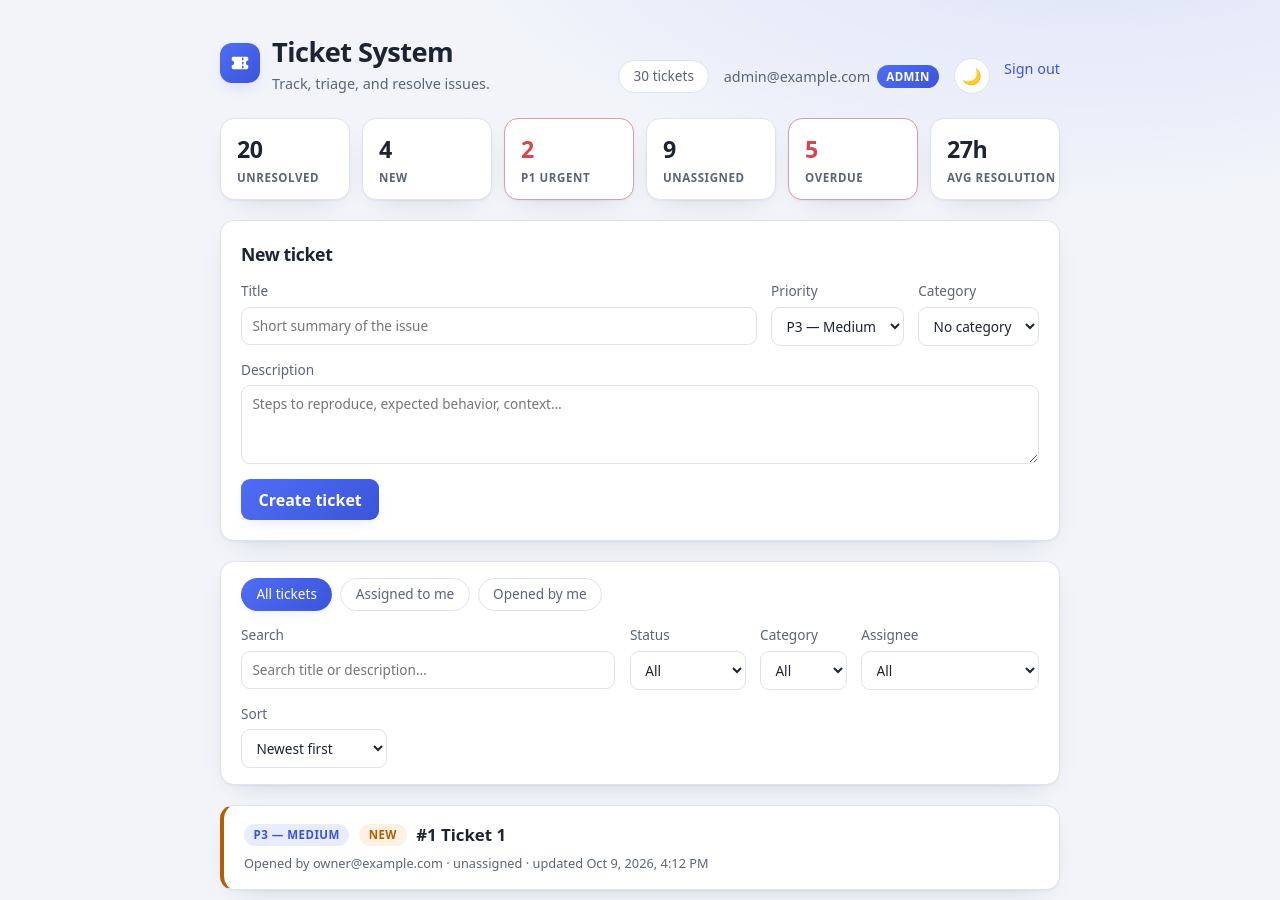
it: stats tiles › formats resolution time in hours below two days and days above
This screenshot has width=1280, height=900.
Expected: the text "27h" is shown, [947,133,987,165]
Select "Open" in the dropdown labelled "Status" at point(688, 670), box [630,650,746,690]
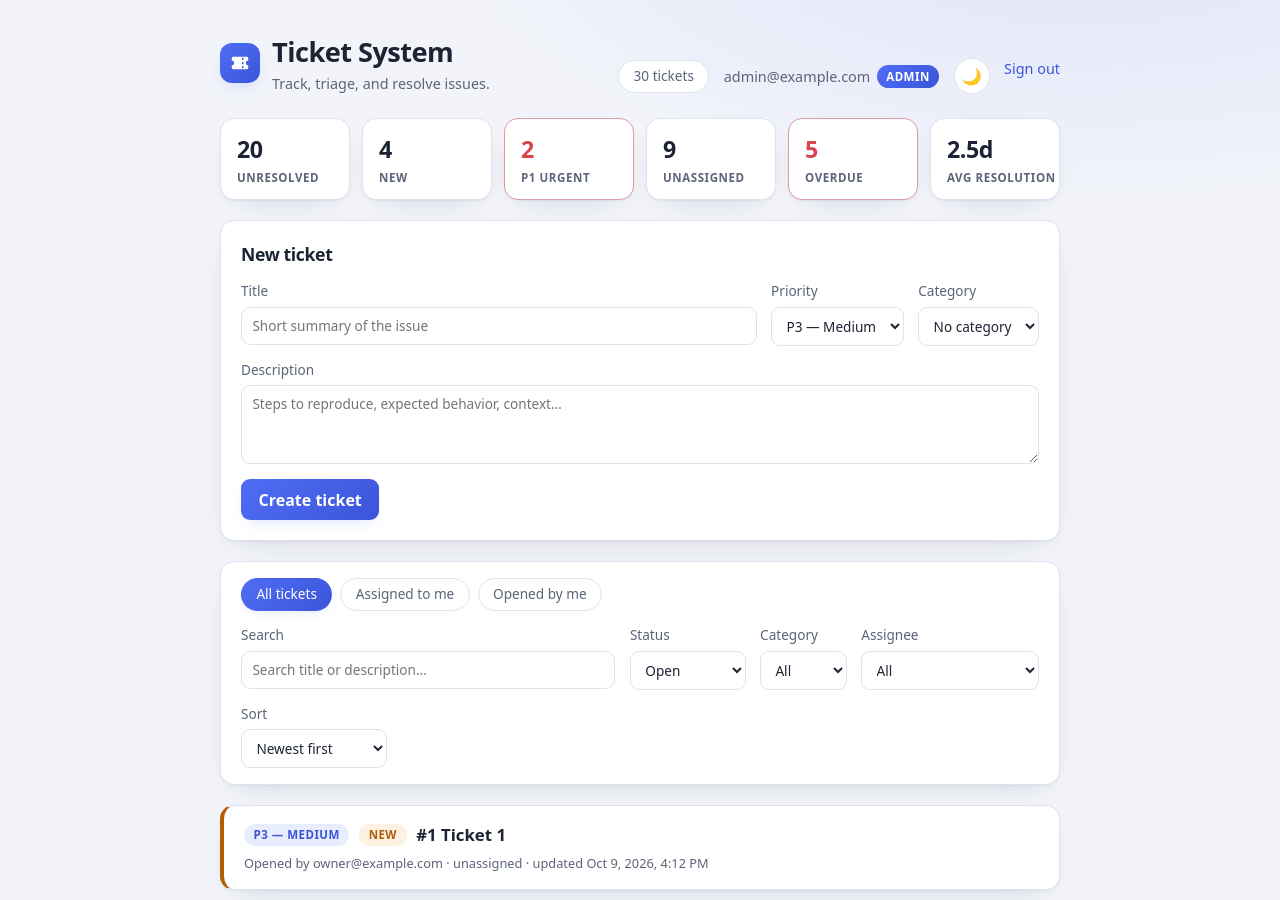
Now the text "2.5d" is shown, box [947,133,993,165]
